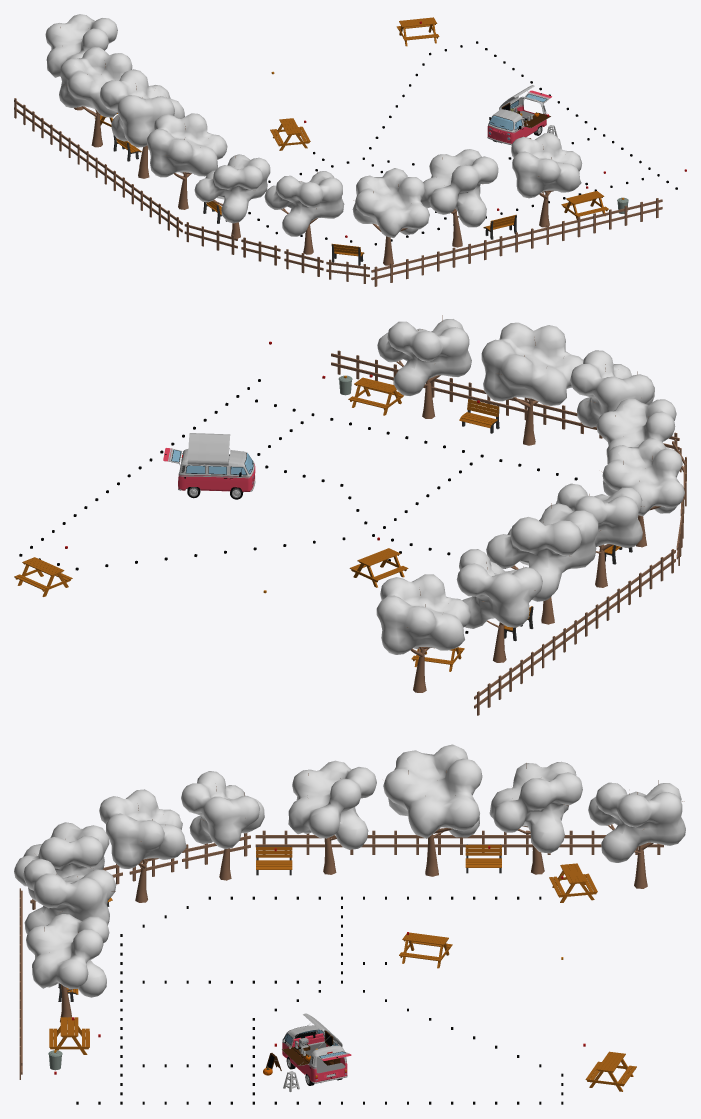
File: cozy-scene.glb
The picture shows the model from 3 angles, top to bottom: view 1: azimuth 30°, elevation 25°; view 2: azimuth 150°, elevation 25°; view 3: azimuth 270°, elevation 25°; orthographic projection. The views are drawn at different scales.
Visible parts, largest first — view 1: foliage, fence, trunk, table-set, Body, bench; view 2: foliage, fence, table-set, trunk, roof, Body, bench; view 3: foliage, fence, table-set, trunk, bench, Body.
Boxes of the visible parts, x1,y1,x2,y2 form: foliage: (45,14,582,237); fence: (14,98,662,286); trunk: (60,27,553,265); table-set: (95,17,608,219); Body: (487,96,546,143); bench: (113,134,516,265); foliage: (376,319,684,654); fence: (331,350,686,715); table-set: (14,377,464,671); trunk: (396,315,660,692); roof: (187,433,230,465); Body: (178,449,255,491); bench: (459,399,632,641); foliage: (14,744,685,997); fence: (19,830,663,1079); table-set: (49,863,636,1091); trunk: (44,763,684,1023); bench: (58,844,501,1001); Body: (283,1025,347,1082).
Bounding box in the file's own units: 26.99 × 6.14 × 30.54.
